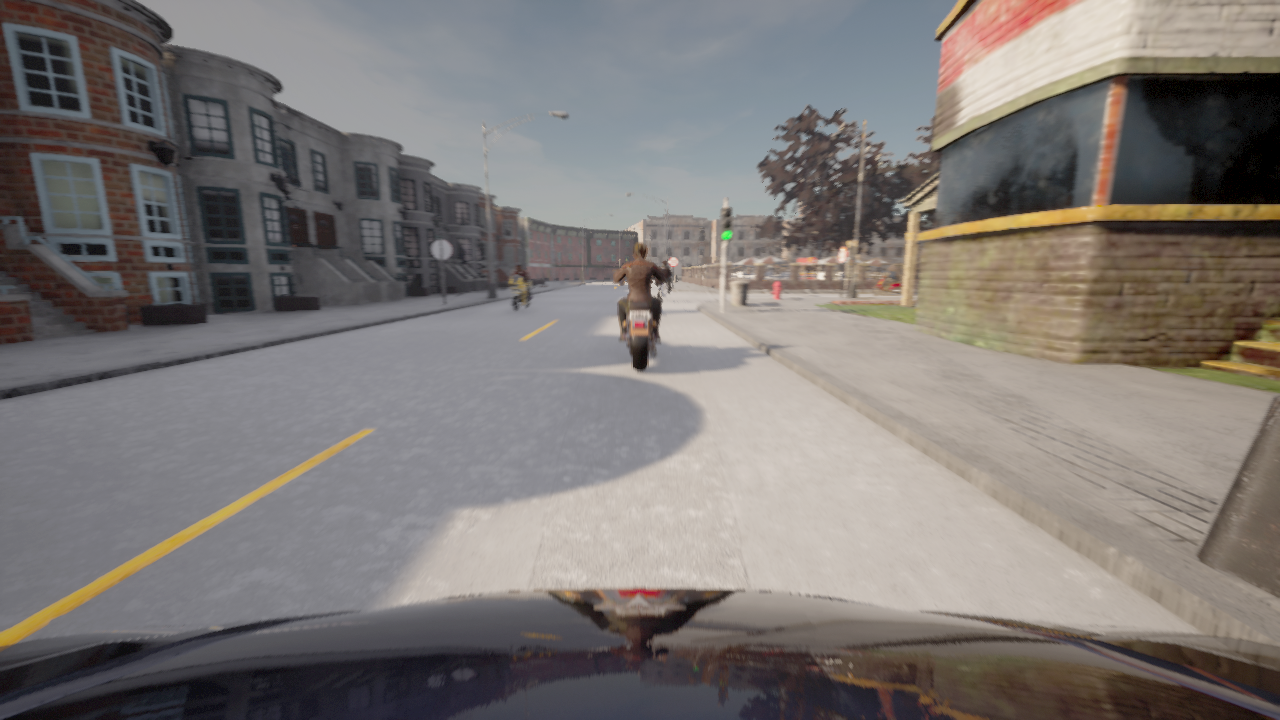cyclist: (0, 588, 1279, 719), (613, 269, 665, 371), (502, 275, 533, 311), (873, 273, 902, 294), (658, 283, 670, 300)
